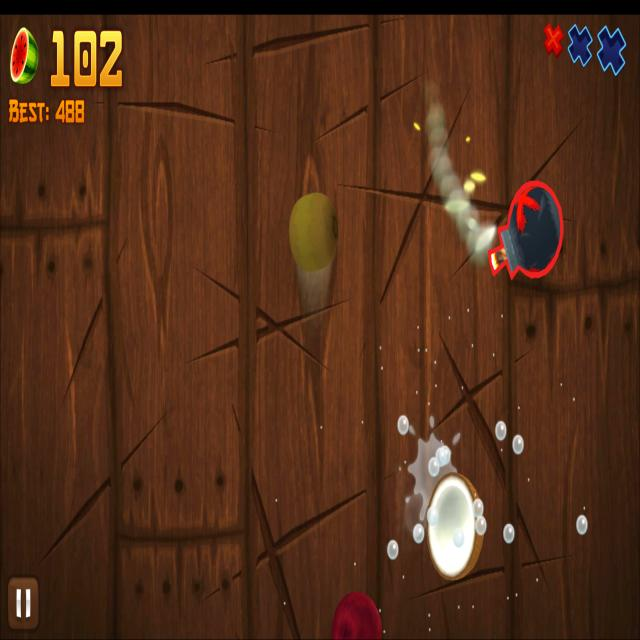bomb: (488, 179, 564, 282)
fruit: (288, 191, 339, 273), (332, 590, 382, 640)
